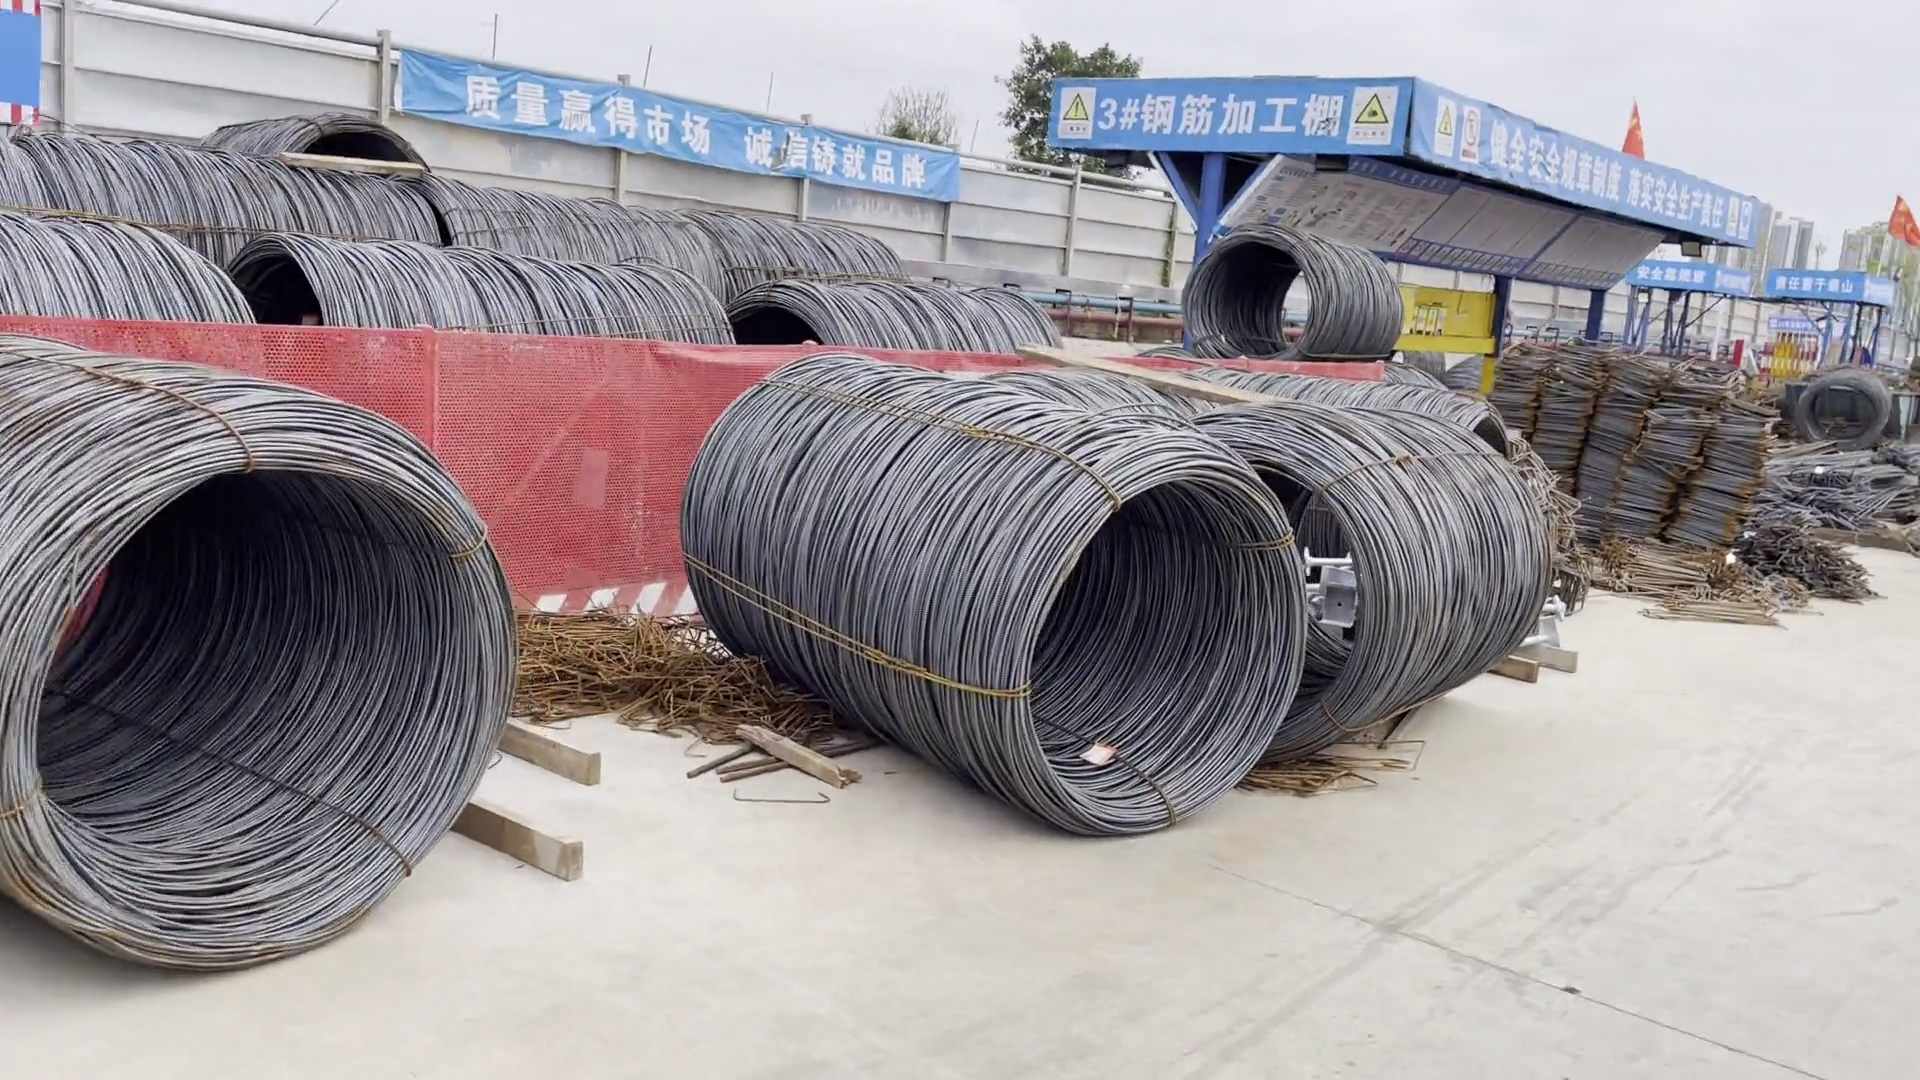slogan: (450, 65, 931, 198)
